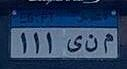1: (45, 31, 55, 57), (33, 31, 41, 55), (20, 31, 28, 55)
meem: (102, 31, 115, 56)
noon: (85, 34, 98, 54)
yaa: (67, 34, 83, 56)
